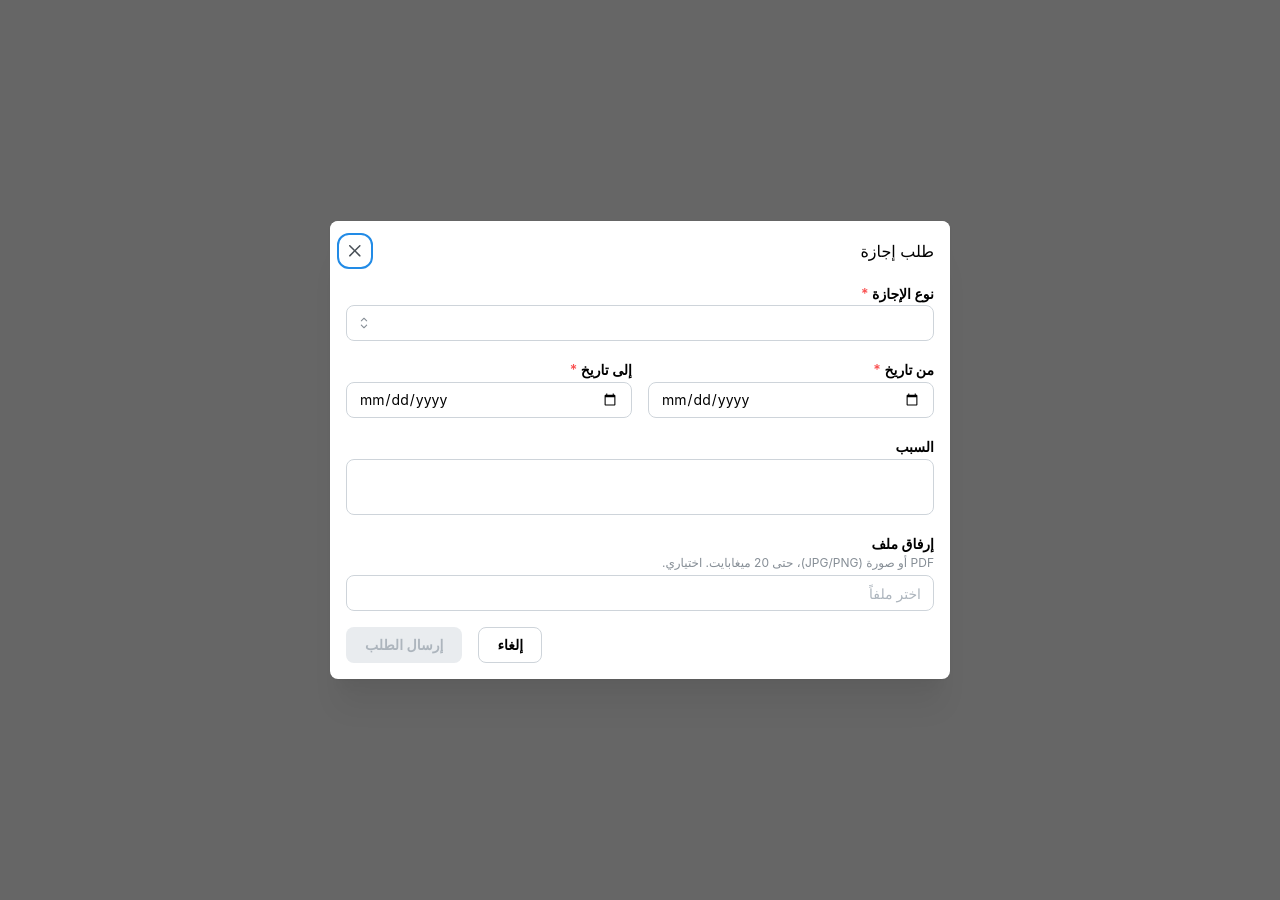
Test: نموذج طلب الإجازة › يعرض المعاينة الحية ويفعّل الإرسال عند كفاية الرصيد
Click the dropdown labelled "نوع الإجازة *" at (640, 323), box [346,305,934,341]
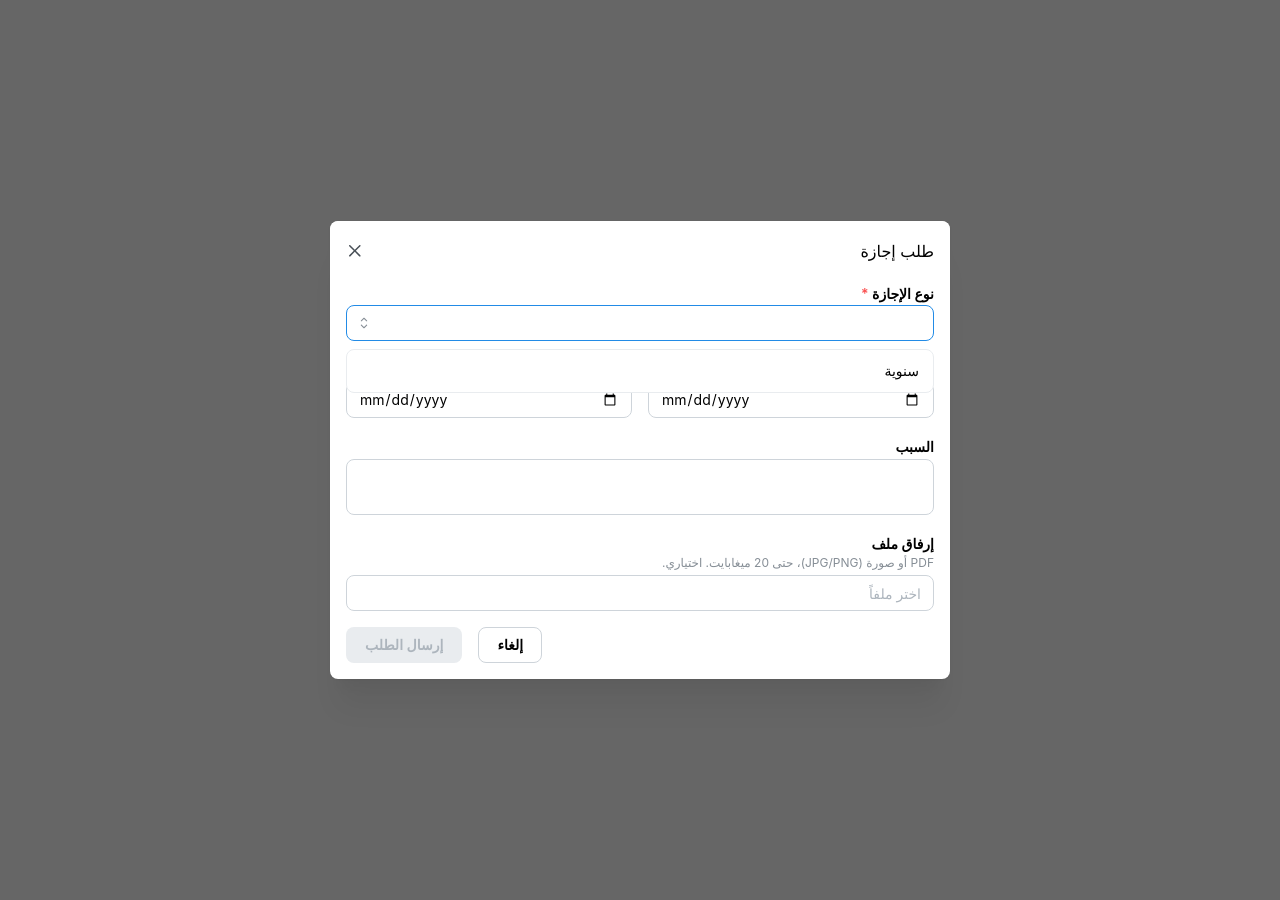
Click the option "سنوية" at (902, 371), box [884,362,919,379]
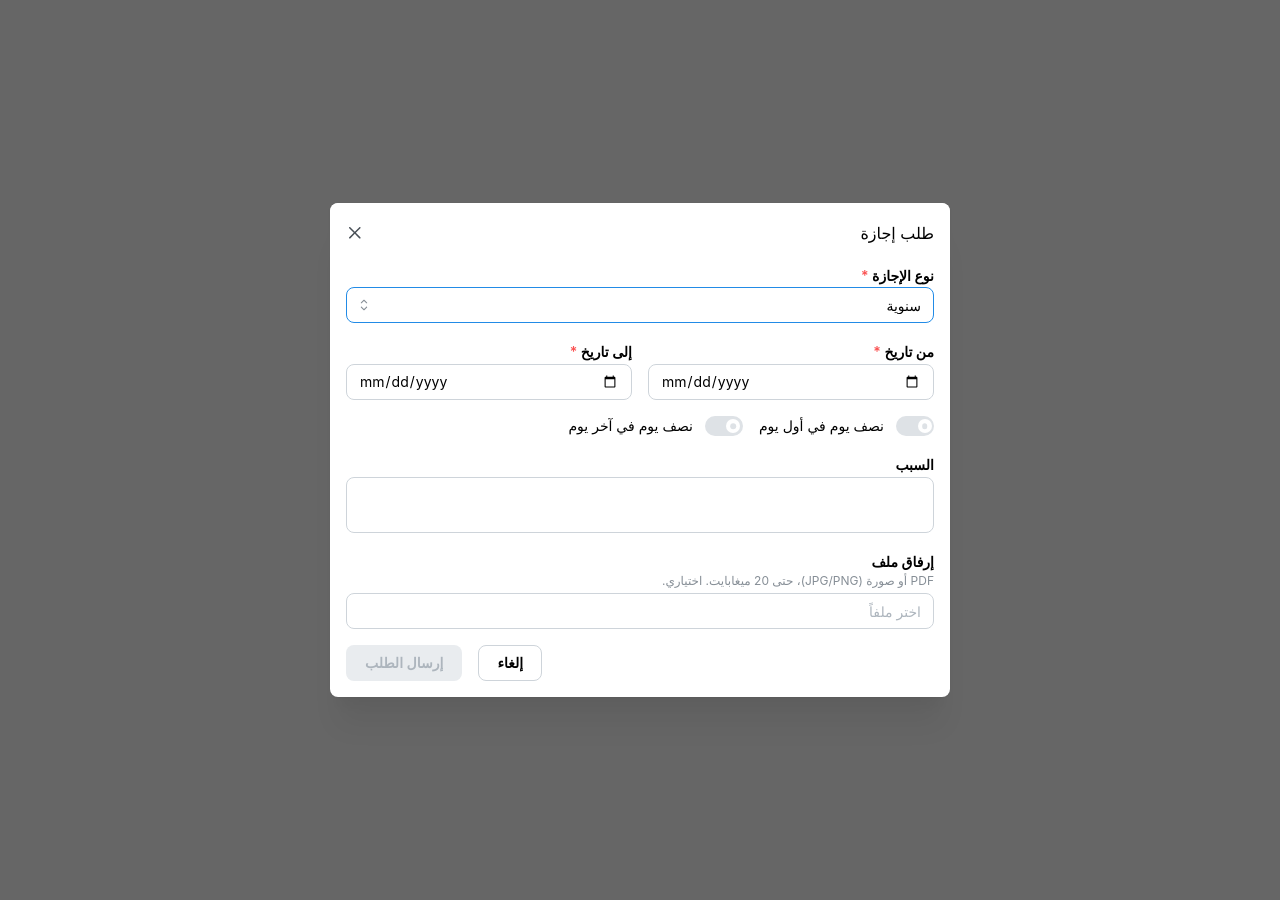
Type "2026-06-15" into the date field labelled "من تاريخ *" at (791, 382), box [648,364,934,400]
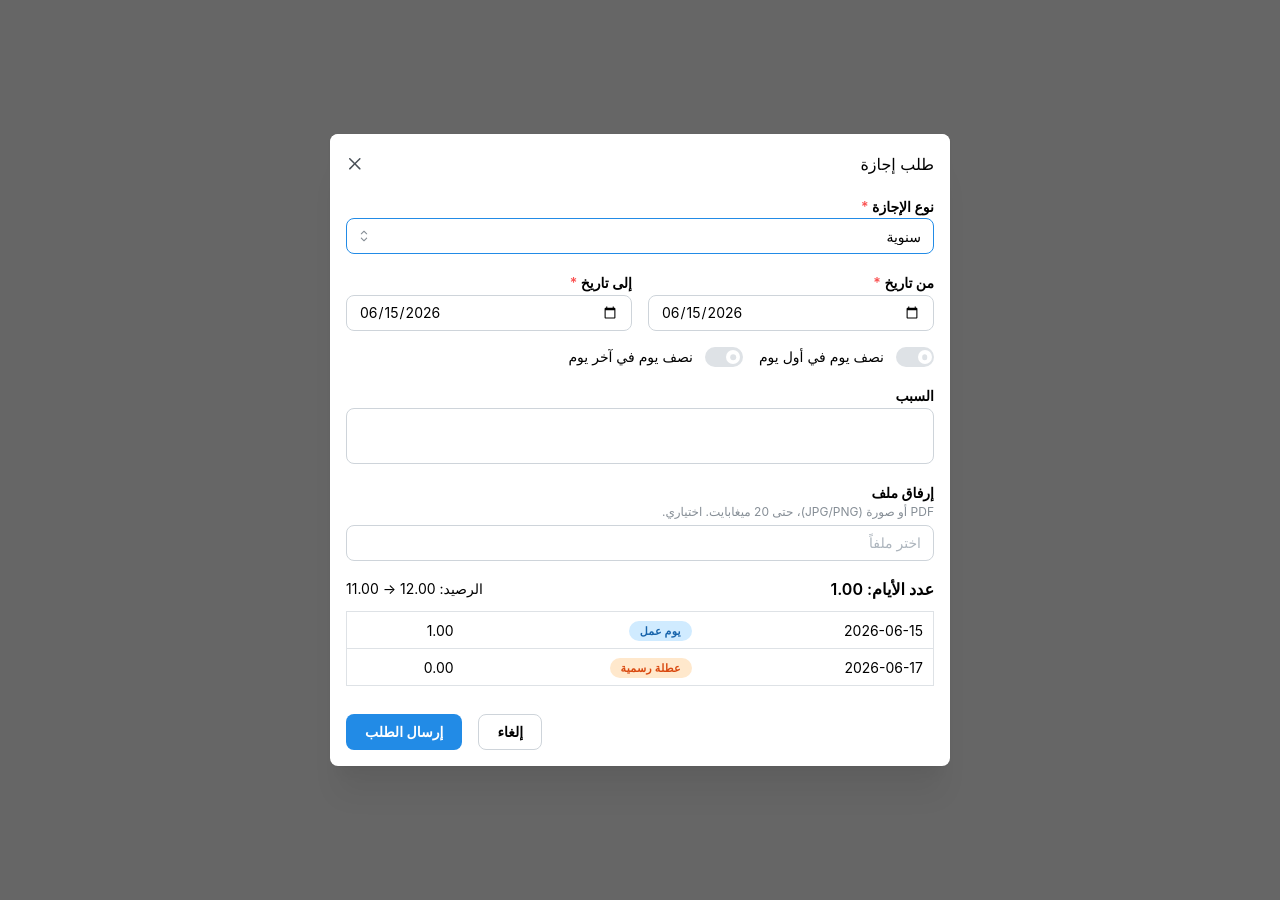
Now the element with test id "leave-preview" is shown, box [346,577,934,698]
Now the text "الرصيد: 12.00 → 11.00" is shown, box [346,579,483,599]
Now the button "إرسال الطلب" is enabled, box [346,714,462,750]
